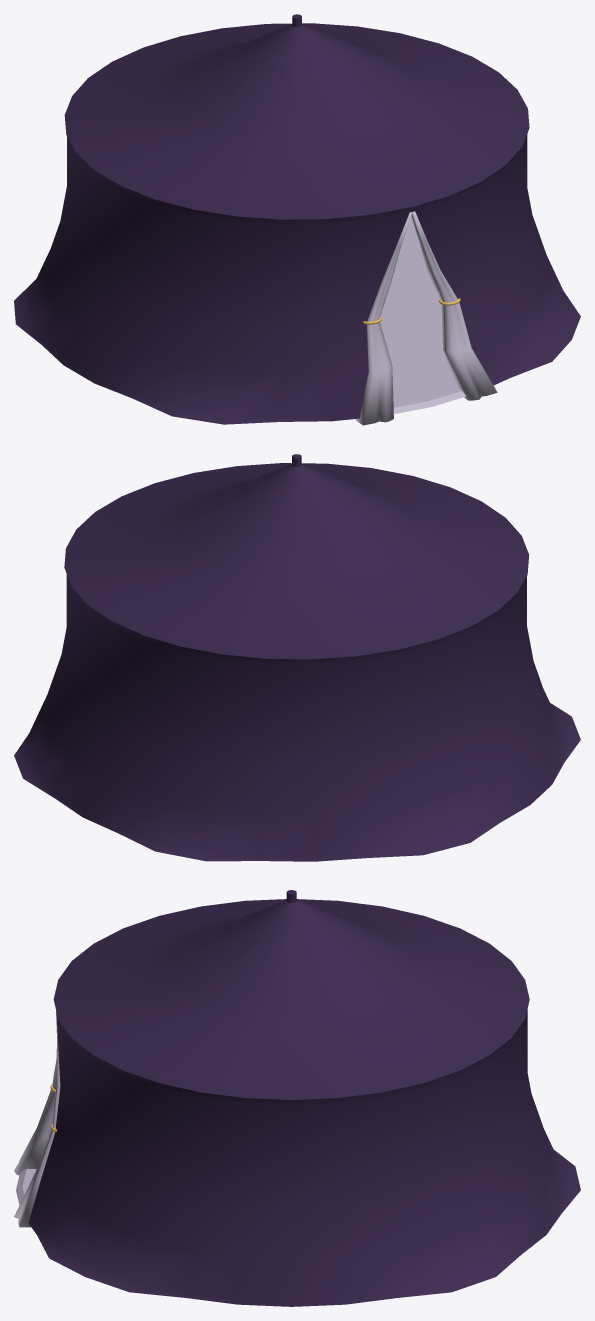
Rendered from tent.fbx.
The picture shows the model from 3 angles, top to bottom: view 1: azimuth 30°, elevation 25°; view 2: azimuth 150°, elevation 25°; view 3: azimuth 270°, elevation 25°; orthographic projection. The views are drawn at different scales.
Parts seen in each view (by area): view 1: Tent; view 2: Tent; view 3: Tent.
Part boxes in pixels (left/top/right/bottom): Tent: left=14, top=14, right=580, bottom=425; Tent: left=14, top=454, right=580, bottom=861; Tent: left=14, top=890, right=580, bottom=1306.
Size of the model in its own units: 636 by 653 by 384.
